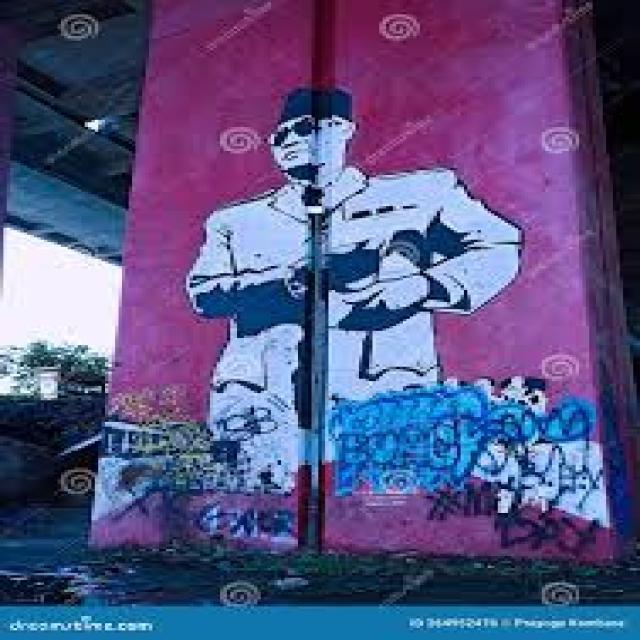-: (185, 85, 522, 390), (326, 385, 608, 558), (100, 378, 294, 552)
